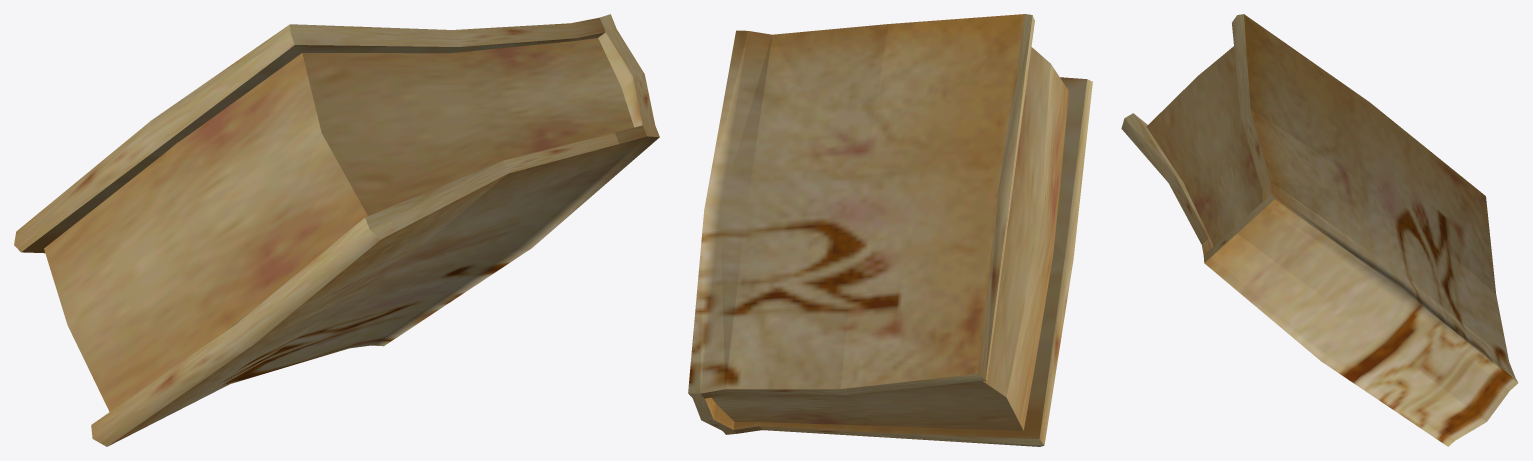
Rendered from saveicon.ico.obj.
3 views of the same model, side by side, from view 1: azimuth 30°, elevation 25°; view 2: azimuth 150°, elevation 25°; view 3: azimuth 270°, elevation 25° (orthographic). The views are drawn at different scales.
Bounding box in the file's own units: 3.39 × 3.37 × 3.47.
